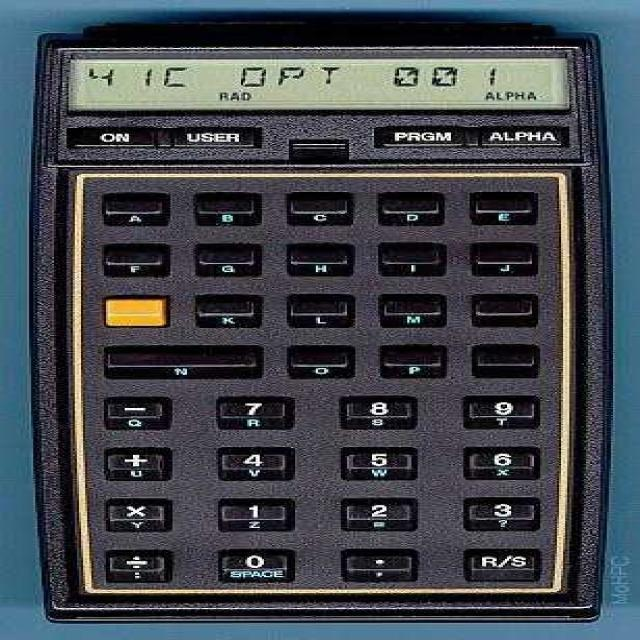Calculator: (2, 0, 636, 639)
